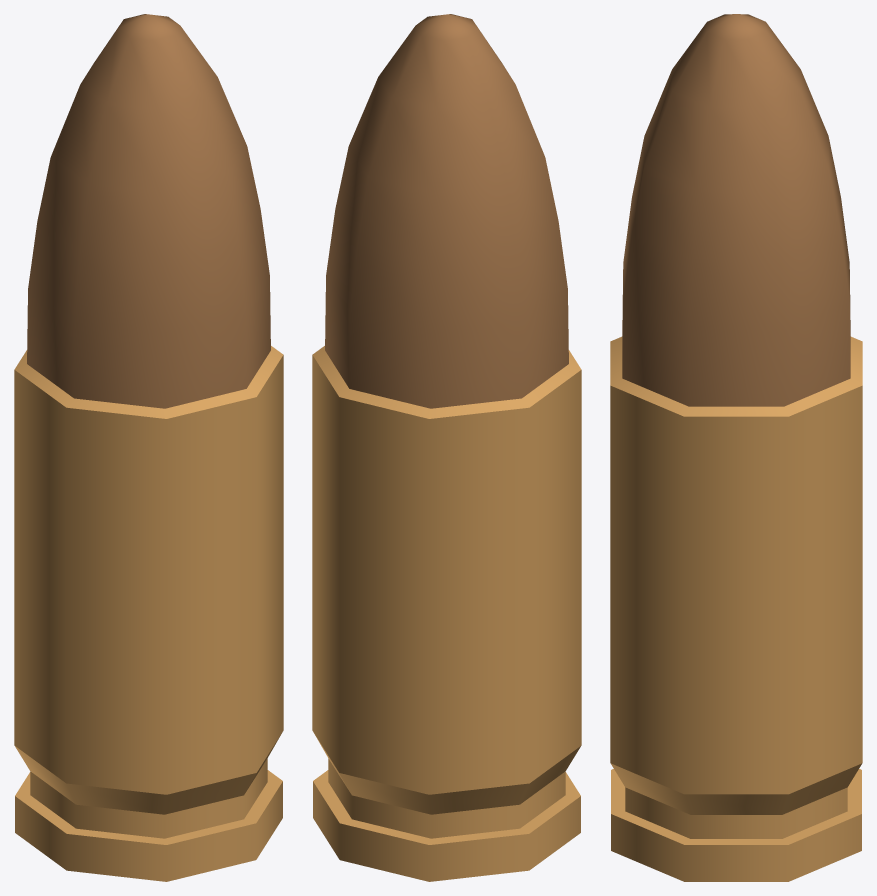
File: SM_Bullet_05.fbx
The picture shows the model from 3 angles, left to right: view 1: azimuth 30°, elevation 25°; view 2: azimuth 150°, elevation 25°; view 3: azimuth 270°, elevation 25°; orthographic projection.
Parts seen in each view (by area): view 1: SM_Bullet_05; view 2: SM_Bullet_05; view 3: SM_Bullet_05.
Part boxes in pixels (x1,y1,x2,y2): SM_Bullet_05: (14, 14, 283, 881); SM_Bullet_05: (312, 14, 581, 881); SM_Bullet_05: (610, 14, 862, 881).
Size of the model in its own units: 3.03 by 10.83 by 3.03.
1 material, 1 textured.
